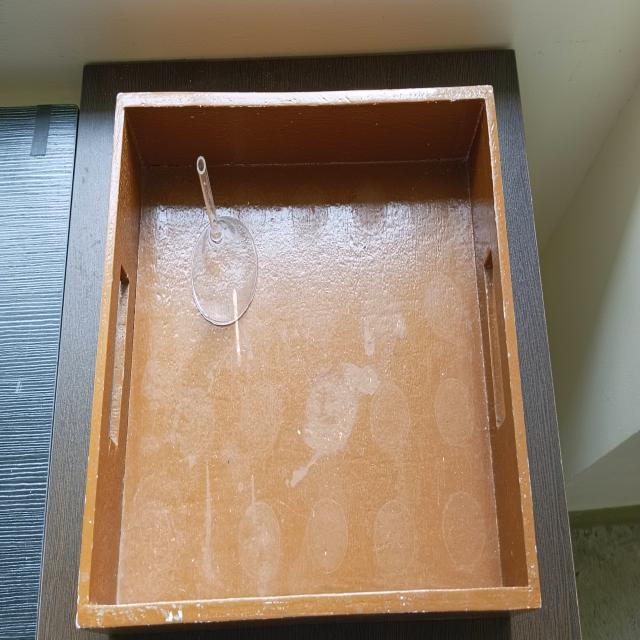funnel: (175, 153, 270, 329)
